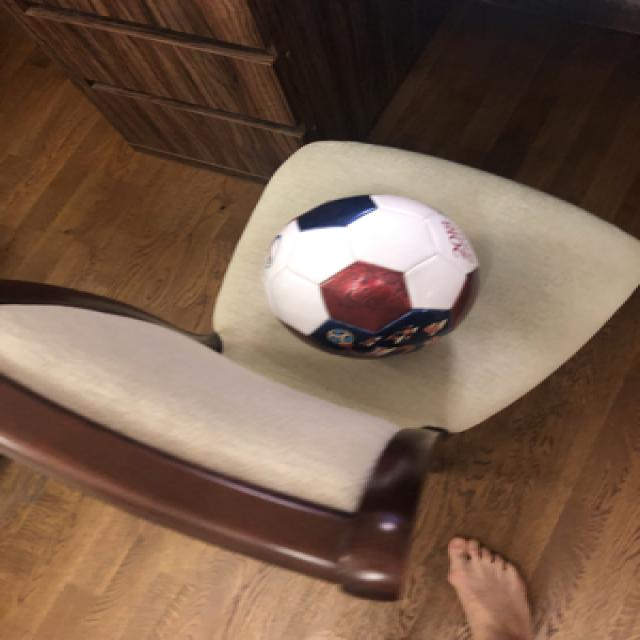soccer_ball: (256, 189, 484, 360)
